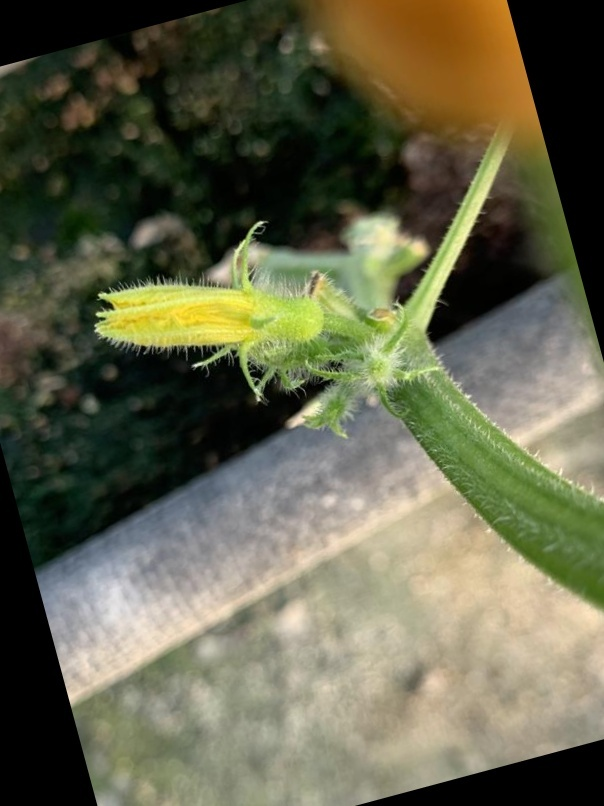bud: (90, 238, 343, 383)
